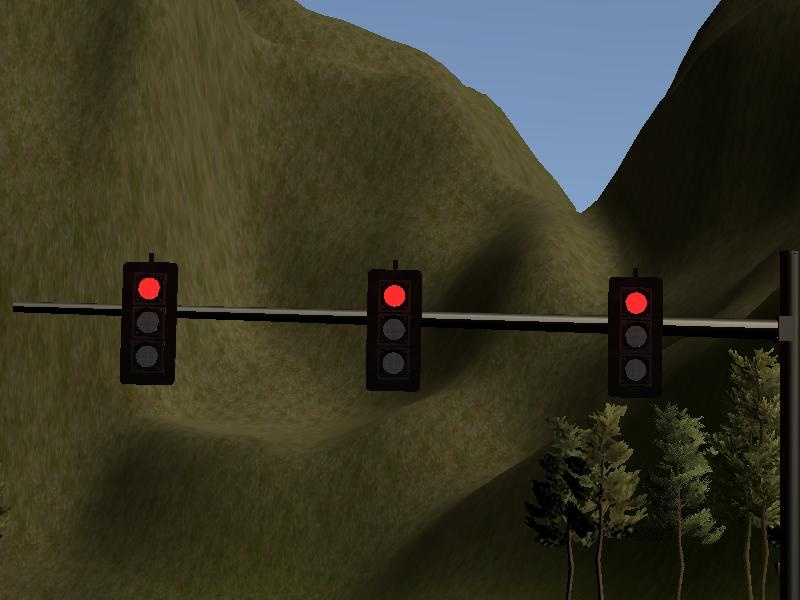red: (122, 262, 175, 382), (368, 270, 420, 391), (608, 278, 660, 395)
